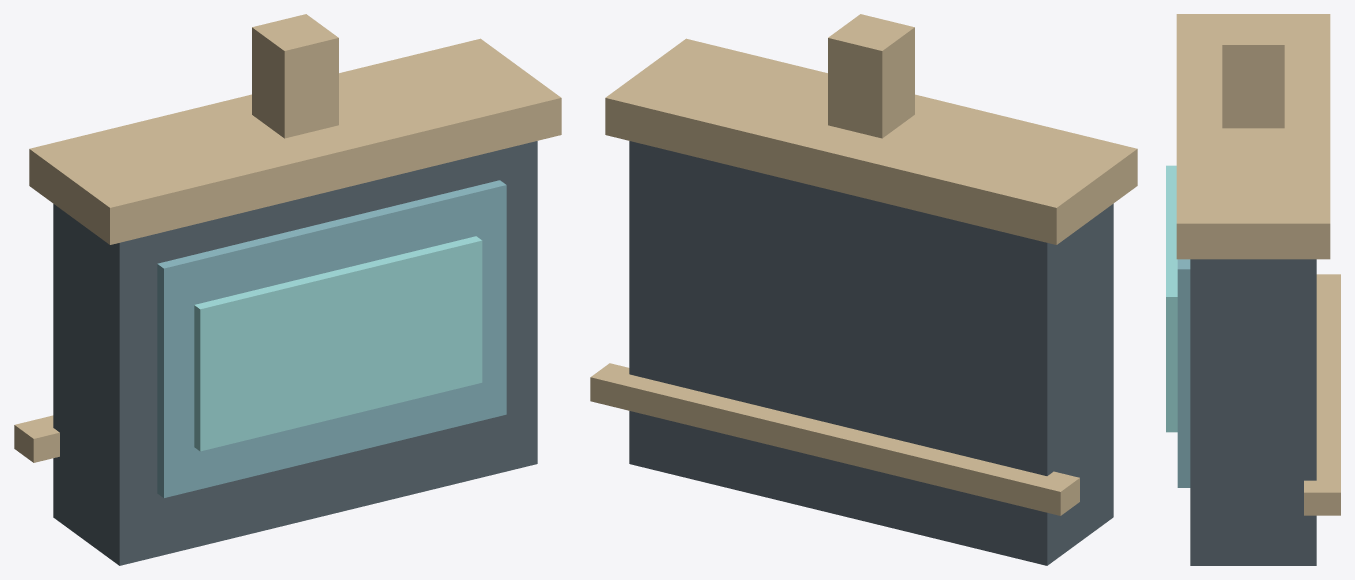
The model's file is gallery-wayfinding-beacon.glb.
The picture shows the model from 3 angles, left to right: view 1: azimuth 30°, elevation 25°; view 2: azimuth 150°, elevation 25°; view 3: azimuth 270°, elevation 25°; orthographic projection. The views are drawn at different scales.
Visible parts, largest first — view 1: gallery-wayfinding-beacon-0, gallery-wayfinding-beacon-1, gallery-wayfinding-beacon-4, gallery-wayfinding-beacon-3, gallery-wayfinding-beacon-5, gallery-wayfinding-beacon-2; view 2: gallery-wayfinding-beacon-0, gallery-wayfinding-beacon-1, gallery-wayfinding-beacon-2, gallery-wayfinding-beacon-5; view 3: gallery-wayfinding-beacon-0, gallery-wayfinding-beacon-1, gallery-wayfinding-beacon-5, gallery-wayfinding-beacon-2, gallery-wayfinding-beacon-3, gallery-wayfinding-beacon-4.
Boxes of the visible parts, box(x1,y1,x2,y2) form: gallery-wayfinding-beacon-0: box(53, 141, 537, 565); gallery-wayfinding-beacon-1: box(29, 38, 561, 244); gallery-wayfinding-beacon-4: box(194, 236, 482, 451); gallery-wayfinding-beacon-3: box(157, 180, 506, 497); gallery-wayfinding-beacon-5: box(252, 14, 338, 138); gallery-wayfinding-beacon-2: box(14, 415, 59, 462); gallery-wayfinding-beacon-0: box(629, 141, 1113, 565); gallery-wayfinding-beacon-1: box(605, 38, 1137, 244); gallery-wayfinding-beacon-2: box(590, 363, 1079, 515); gallery-wayfinding-beacon-5: box(828, 14, 914, 138); gallery-wayfinding-beacon-0: box(1190, 259, 1316, 565); gallery-wayfinding-beacon-1: box(1176, 14, 1330, 259); gallery-wayfinding-beacon-5: box(1222, 19, 1284, 128); gallery-wayfinding-beacon-2: box(1304, 274, 1340, 515); gallery-wayfinding-beacon-3: box(1177, 259, 1190, 487); gallery-wayfinding-beacon-4: box(1166, 165, 1177, 432).
Size of the model in its own units: 2.25 by 2.09 by 0.76.
